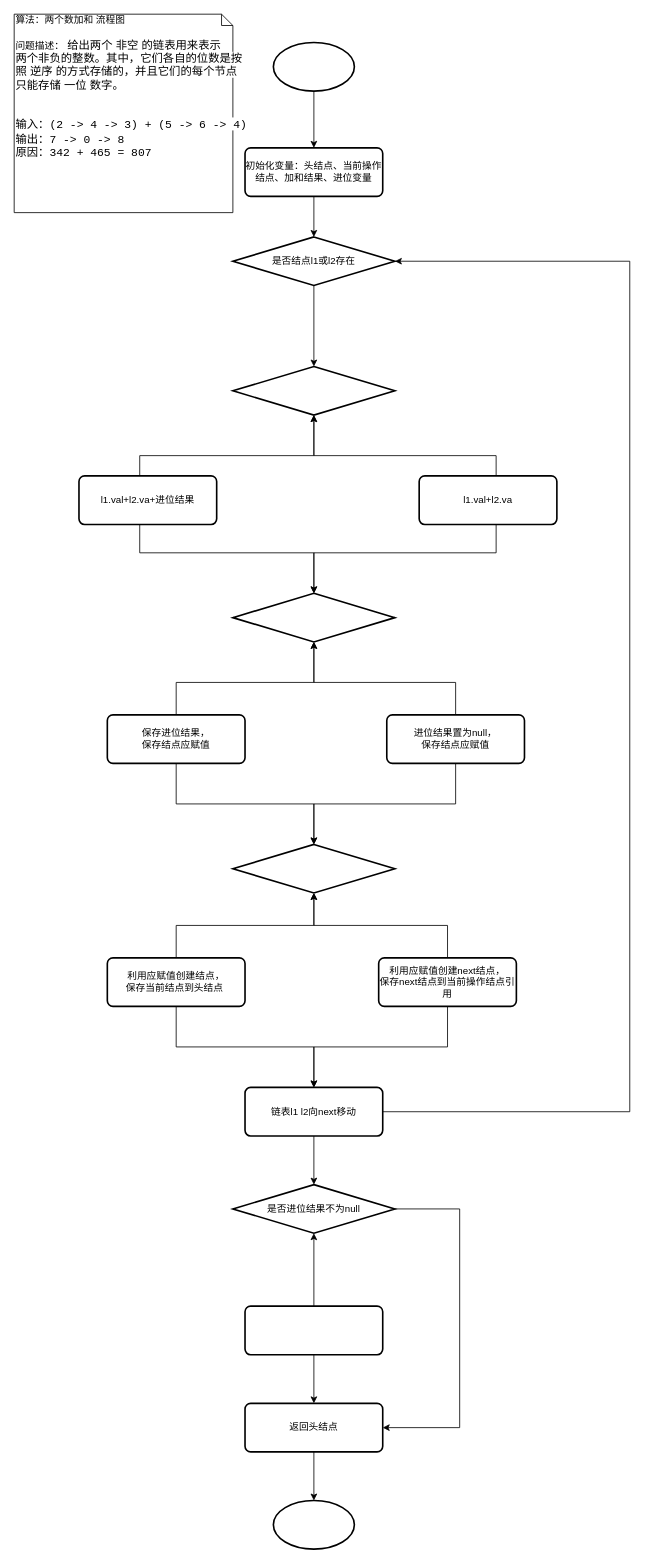
The diagram is 650 pixels wide and 1564 high, and some of its shapes have lost their labels. Here are the shapes that lost their labels. From the top down, the centre of each, then its label:
At point 313,66: "开始".
At point 313,390: "是否存在进位结果".
At point 313,617: "是否加和大于等于10".
At point 313,868: "当前操作结点是否为null".
At point 313,1330: "将进位结果的值作为一个新的结点保存到current.next".
At point 313,1524: "结束".
